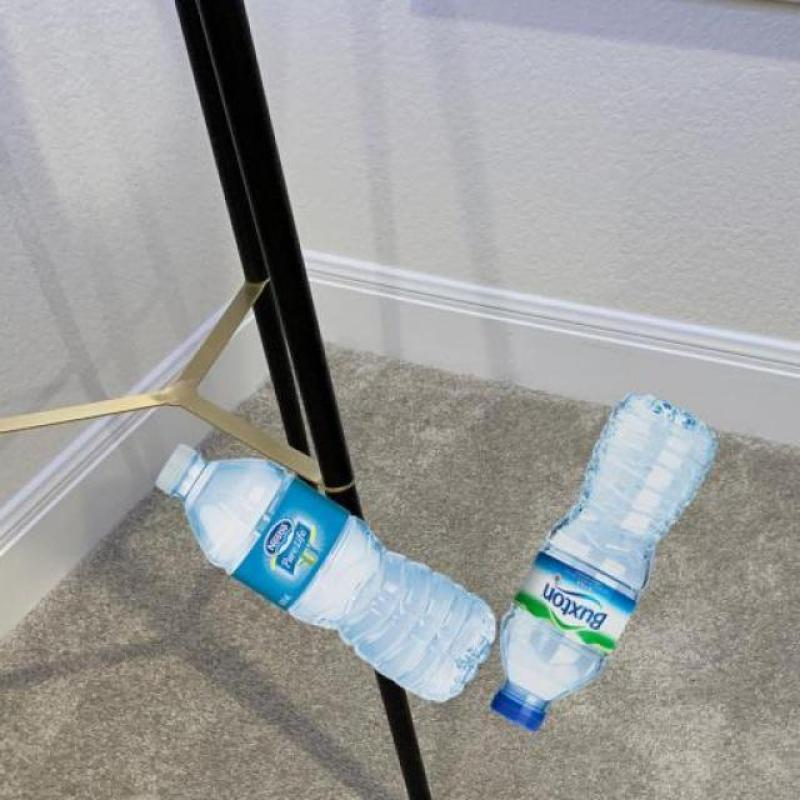botella: (154, 444, 498, 704), (488, 391, 724, 733)
